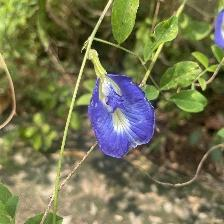shankupushpam: (87, 74, 159, 162)
